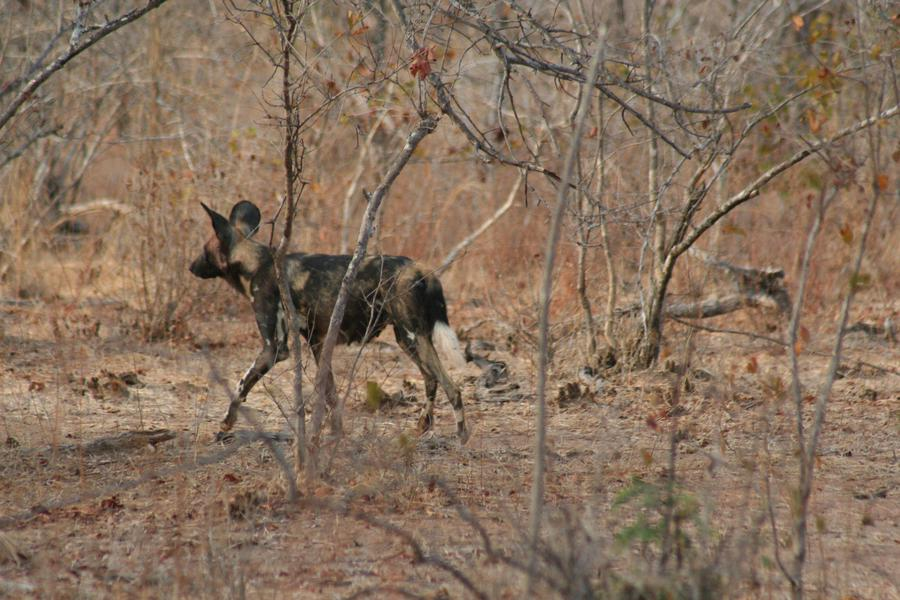wilddog: (237, 207, 448, 390)
